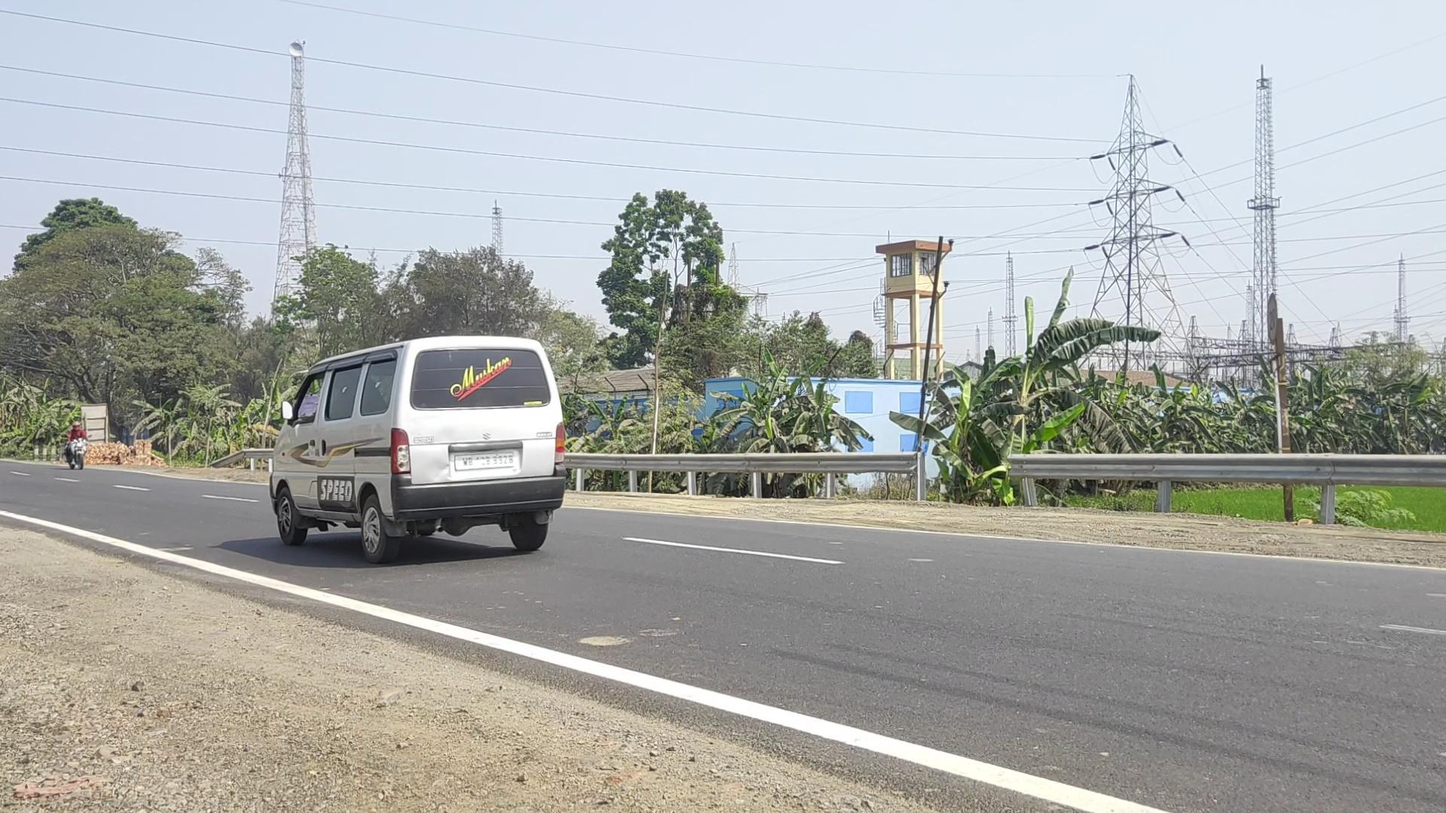bike: (63, 422, 92, 470)
van: (269, 336, 566, 565)
